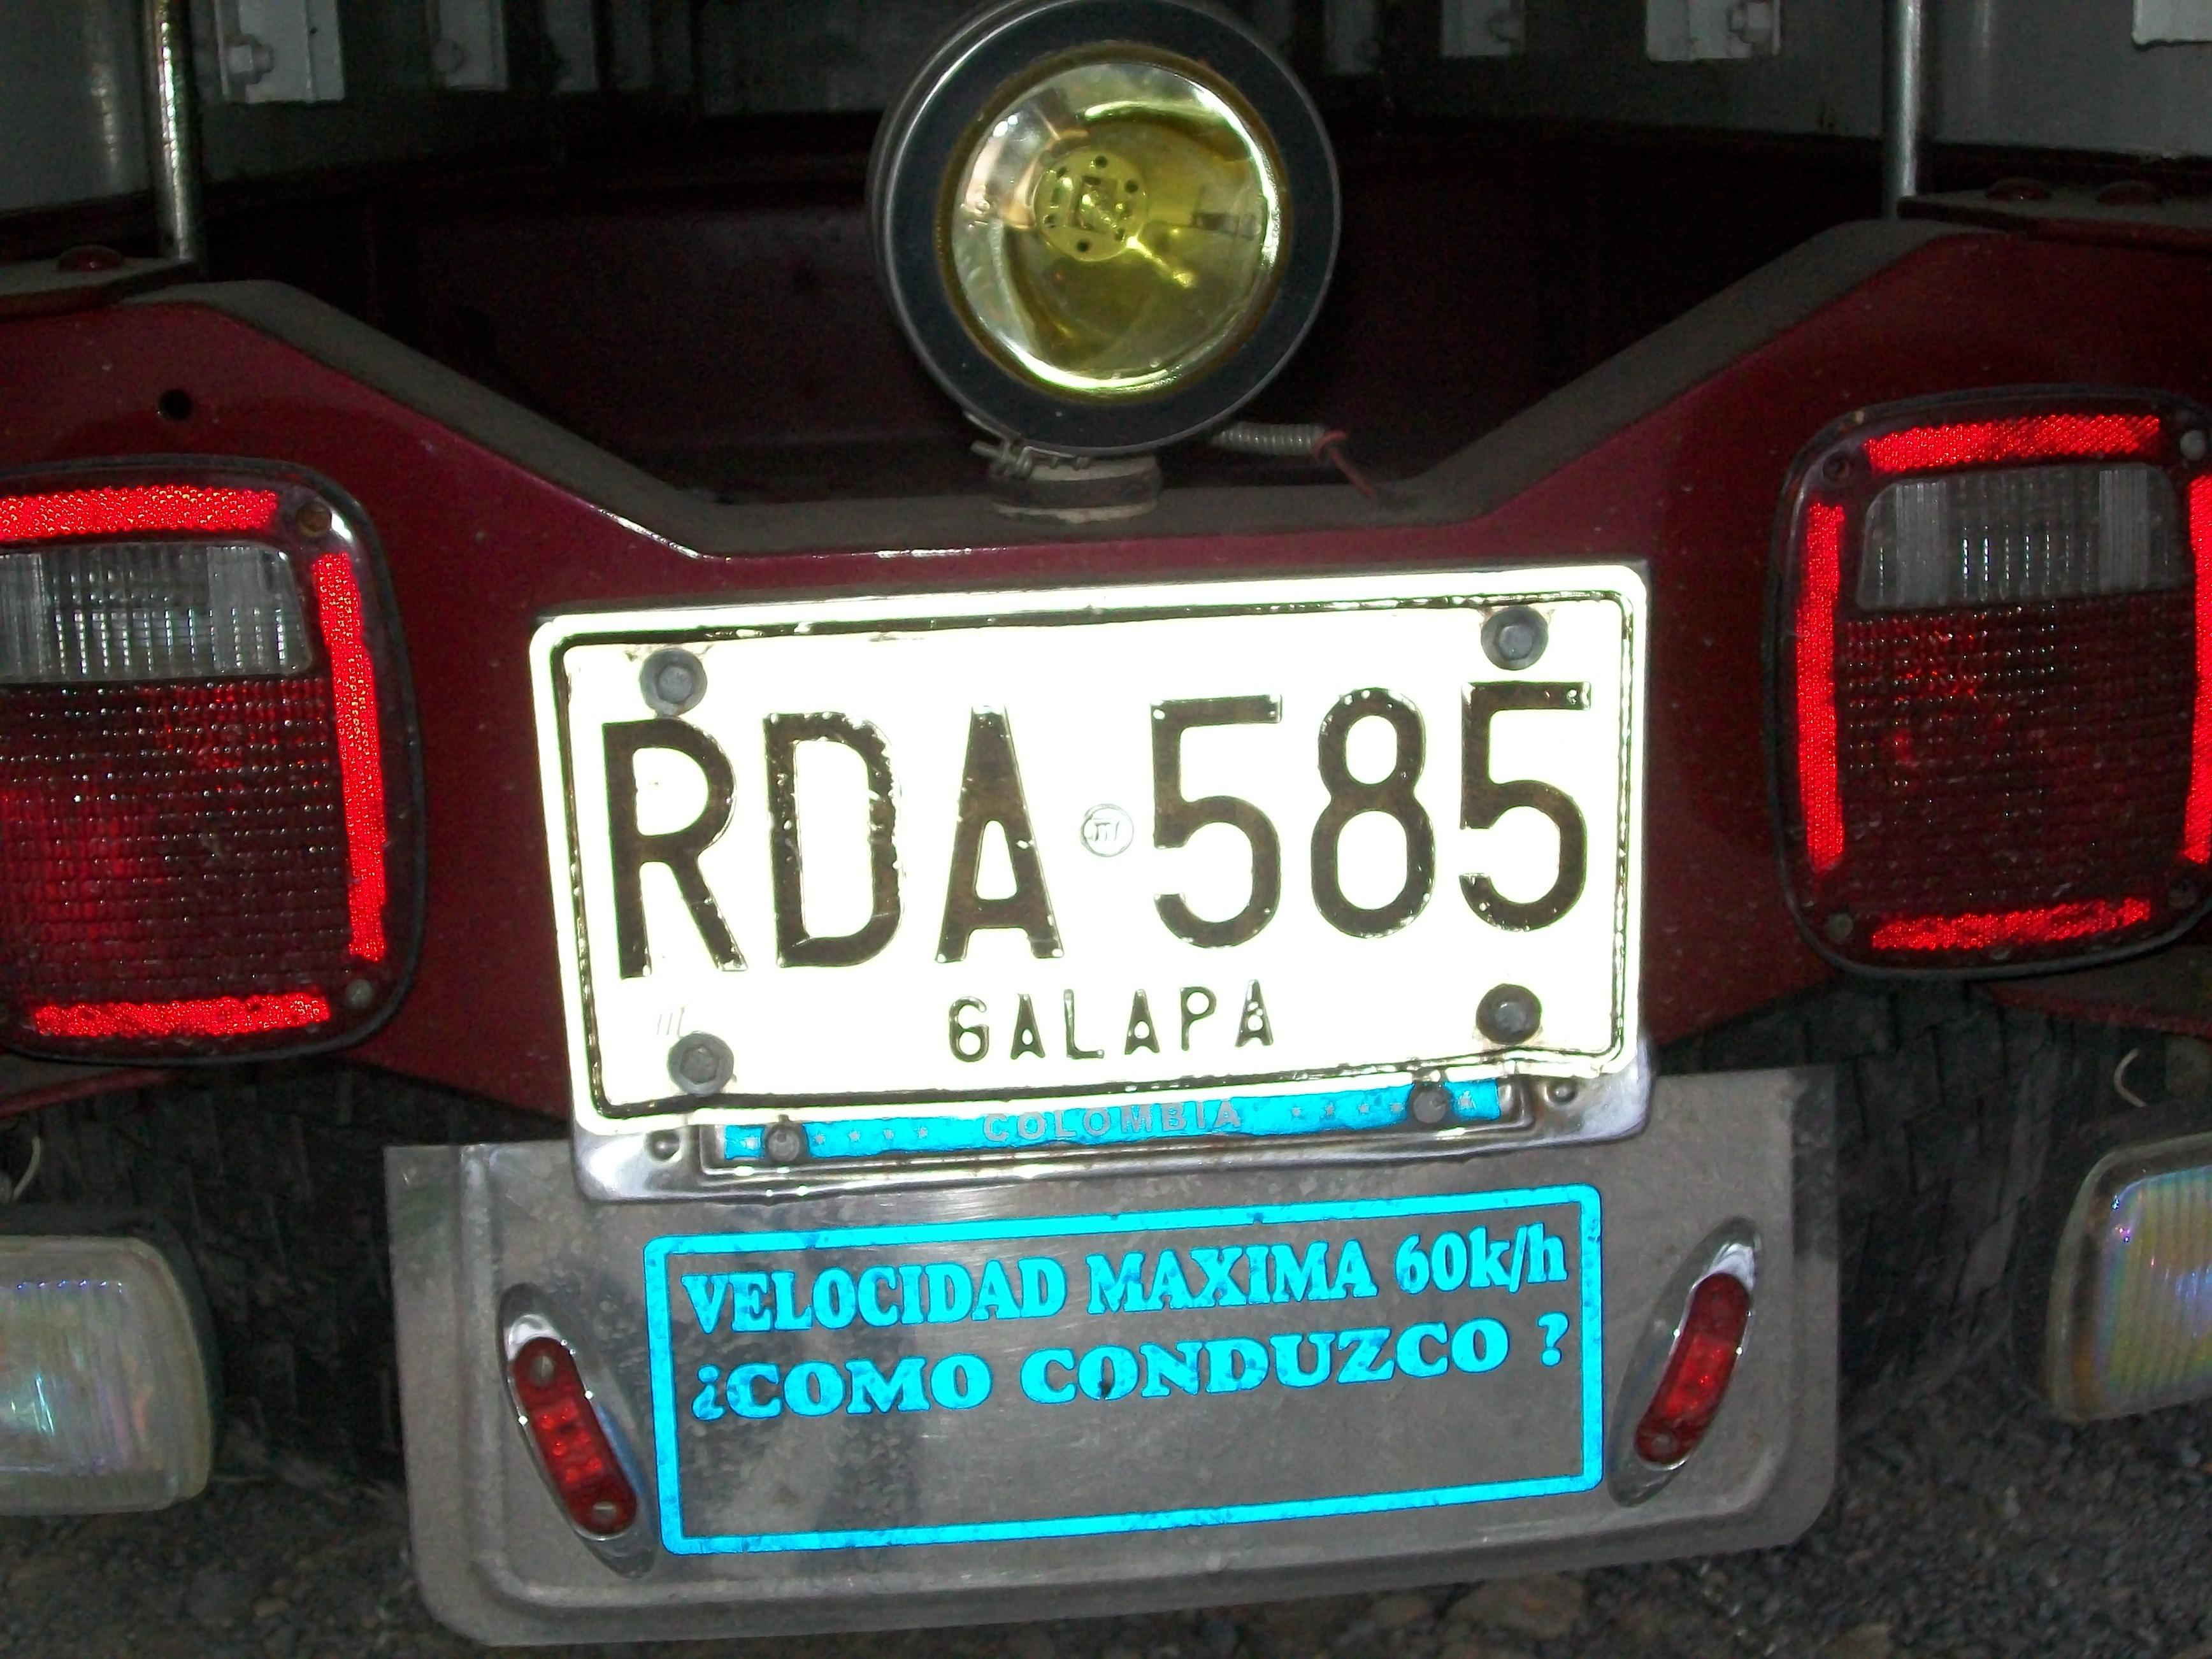placas: (508, 558, 1663, 1109)
